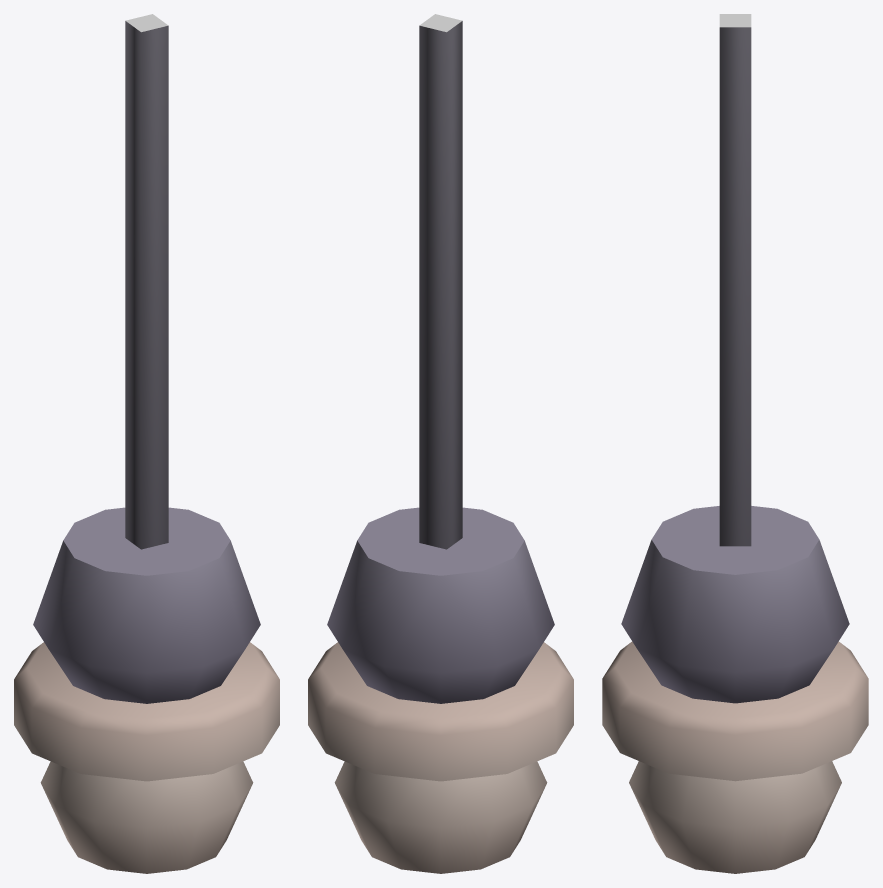
Rendered from fan-ceiling-classic (%ceiling).glb.
3 views of the same model, side by side, from view 1: azimuth 30°, elevation 25°; view 2: azimuth 150°, elevation 25°; view 3: azimuth 270°, elevation 25° (orthographic).
Parts seen in each view (by area): view 1: fan-ceiling-classic (%ceiling); view 2: fan-ceiling-classic (%ceiling); view 3: fan-ceiling-classic (%ceiling).
Part boxes in pixels (bbox=[...]): fan-ceiling-classic (%ceiling): bbox=[14, 14, 279, 873]; fan-ceiling-classic (%ceiling): bbox=[308, 14, 573, 873]; fan-ceiling-classic (%ceiling): bbox=[602, 14, 868, 873].
Bounding box in the file's own units: 0.2095 × 0.7108 × 0.2095.
